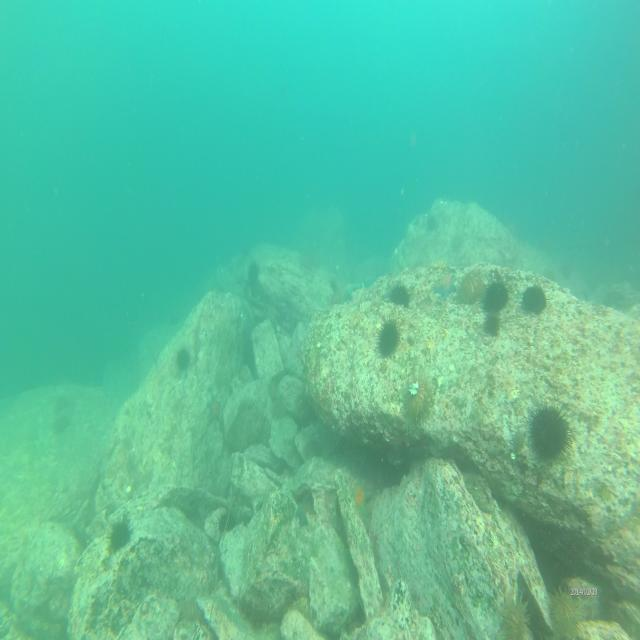echinus: (528, 396, 574, 469), (403, 373, 434, 423), (482, 271, 511, 319), (455, 265, 484, 306), (520, 283, 550, 316), (379, 316, 401, 357), (108, 516, 134, 550), (388, 278, 410, 310), (482, 310, 504, 339), (175, 342, 191, 370)
starfish: (546, 580, 591, 640), (498, 587, 530, 640), (345, 471, 374, 519), (434, 270, 458, 301)
